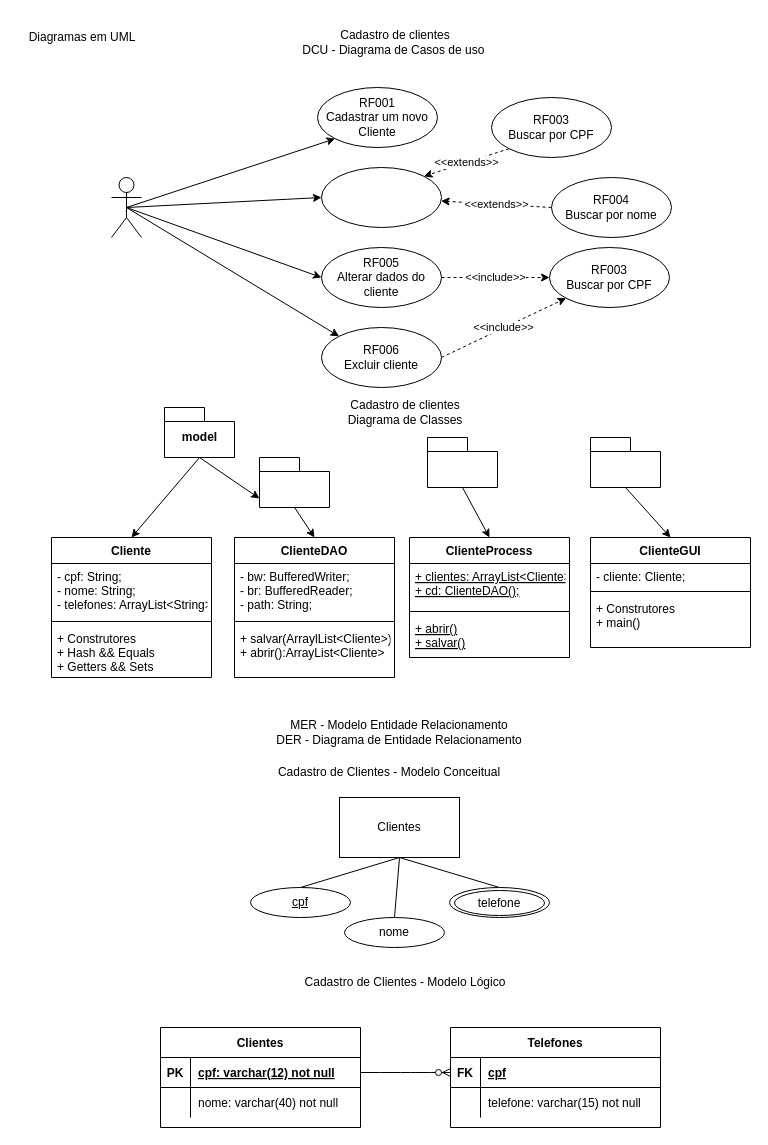
Image size: 768x1145. Some labels were removed from this diagram. The centre of each missing label's shape, as x and y in pixels:
Atendente: point 126,207
controlles: point 462,462
dao: point 294,482
RF002 Listar todos os clientes: point 381,197
view: point 625,462
